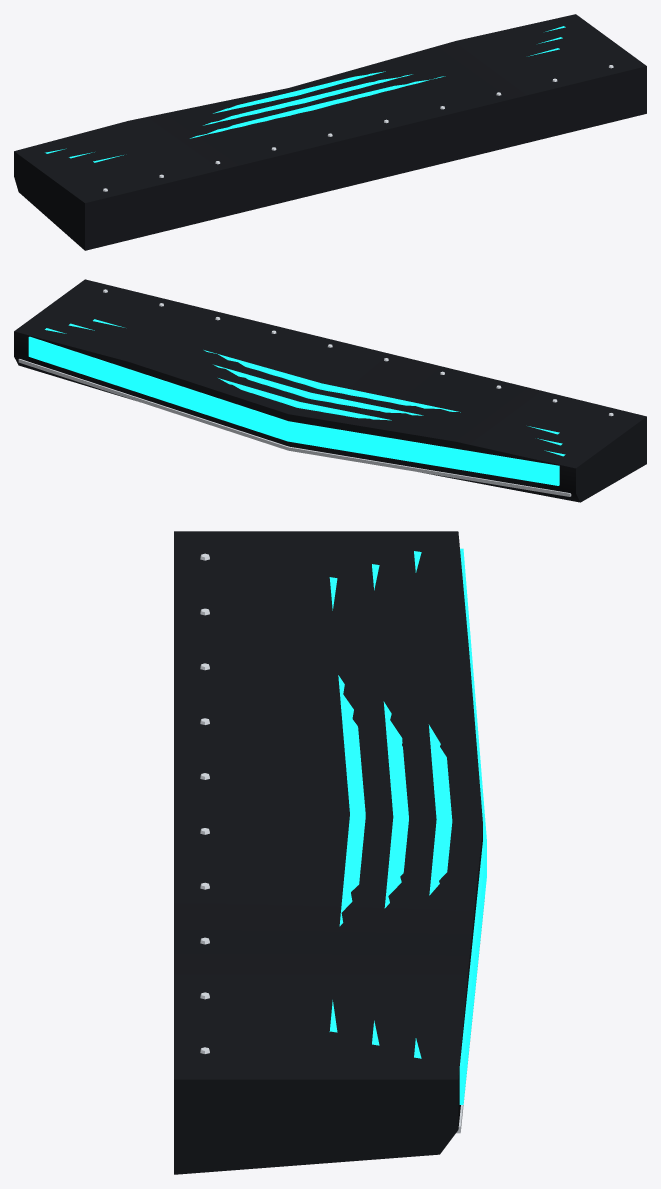
The model's file is visor_v_chevron.glb.
3 renders of one model, top to bottom at view 1: azimuth 30°, elevation 25°; view 2: azimuth 150°, elevation 25°; view 3: azimuth 270°, elevation 25°, orthographic. The views are drawn at different scales.
Visible parts, largest first — view 1: visor_v_chevron_deco_body, visor_v_chevron_deco_neon; view 2: visor_v_chevron_deco_body, visor_v_chevron_deco_neon, visor_v_chevron_chrome; view 3: visor_v_chevron_deco_body, visor_v_chevron_deco_neon.
Part boxes in pixels (x1,y1,x2,y2): visor_v_chevron_deco_body: (14,14,646,250); visor_v_chevron_deco_neon: (45,26,565,162); visor_v_chevron_deco_body: (14,279,646,502); visor_v_chevron_deco_neon: (28,319,565,485); visor_v_chevron_chrome: (18,289,613,496); visor_v_chevron_deco_body: (174,531,482,1174); visor_v_chevron_deco_neon: (329,548,486,1104).
Size of the model in its own units: 2.1 by 0.1755 by 0.506.
